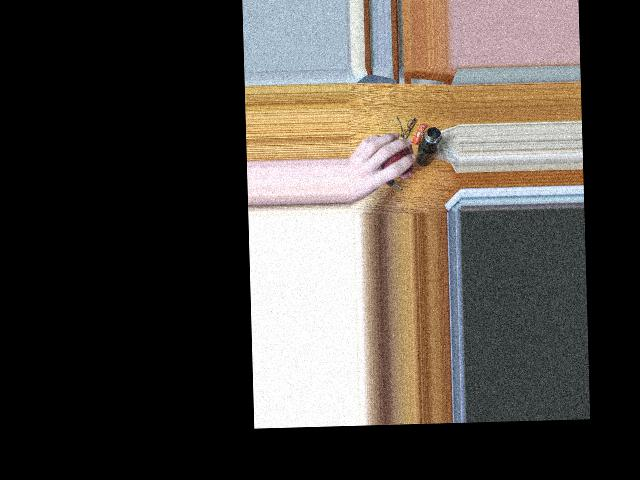onion: (374, 138, 406, 179)
